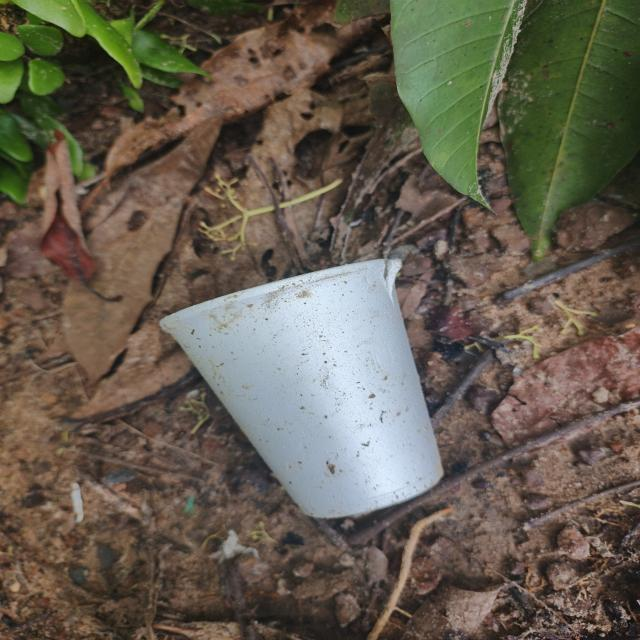plastic: (155, 247, 461, 529)
